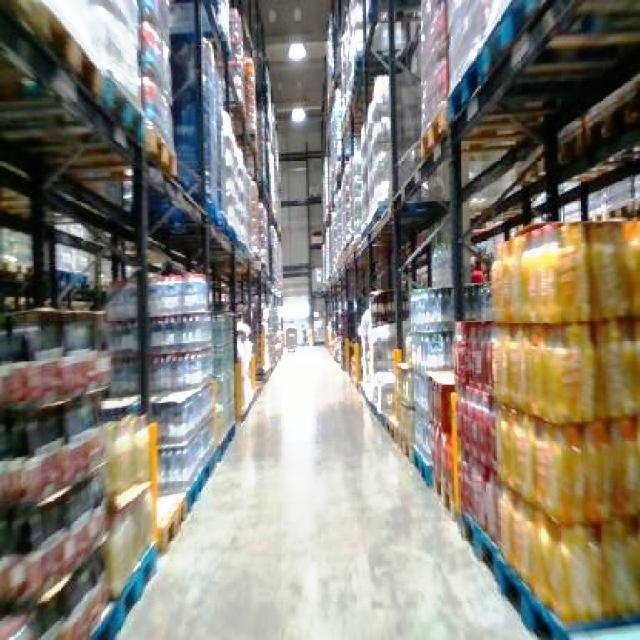ground: (103, 340, 548, 638)
pallet: (320, 0, 638, 638), (0, 289, 237, 638), (488, 212, 638, 635), (0, 308, 114, 638)
